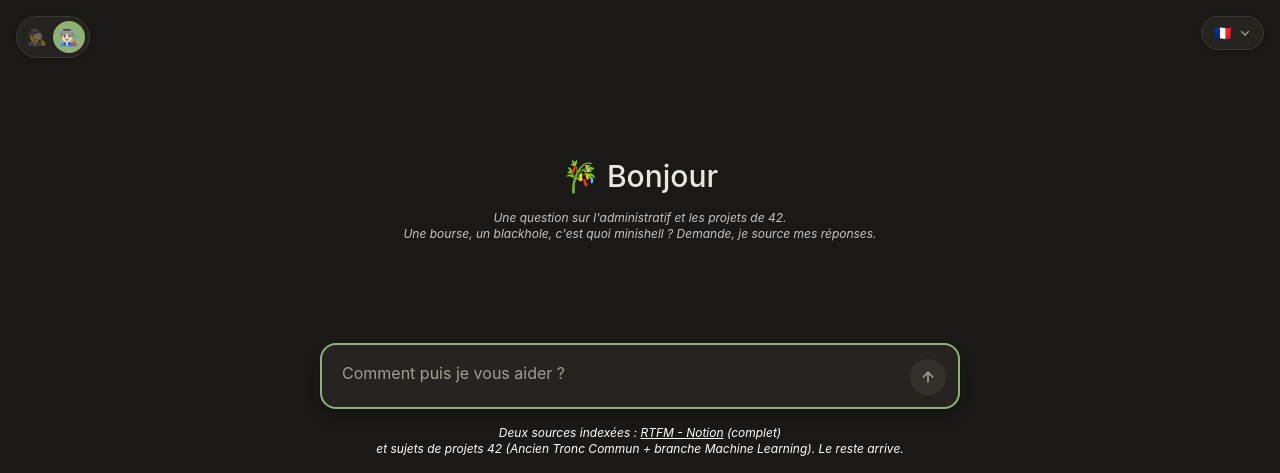
the two pages together › keep separate drafts and separate exchanges
The image size is (1280, 473).
(page scrolled)
Type "brouillon chat" into the text box.
click(640, 373); type("brouillon chat")  # box left=322, top=345, right=958, bottom=401
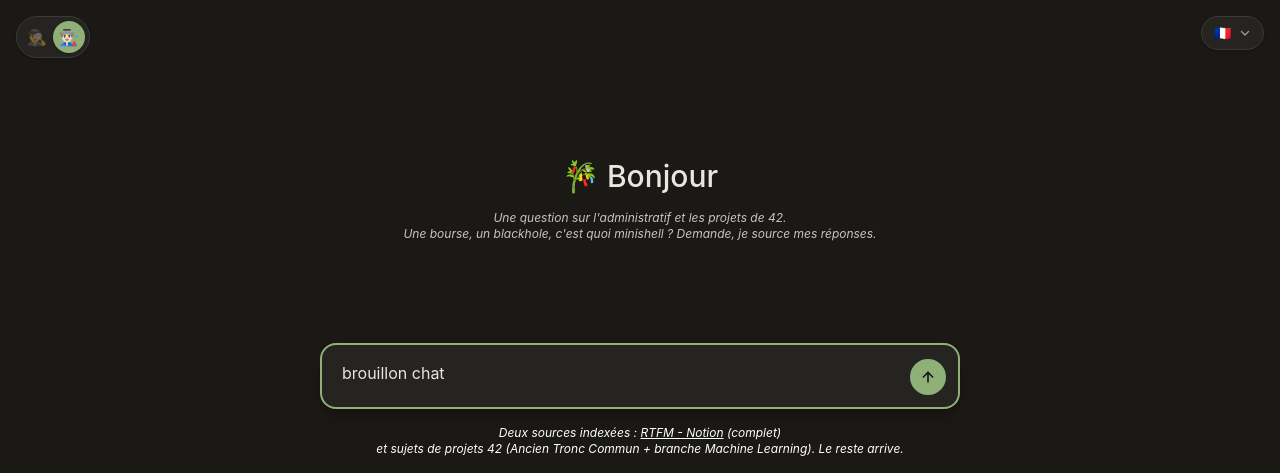
Click the button named "Basculer vers l'archiviste".
click(53, 37)  # box left=16, top=16, right=90, bottom=58
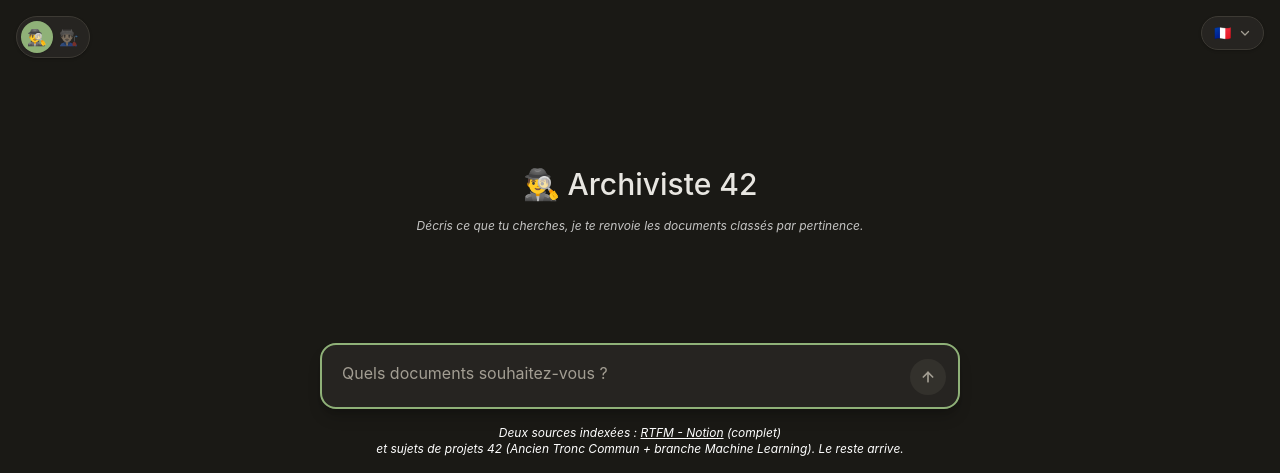
Expected: the text box is empty, left=322, top=345, right=958, bottom=401
# …and the chat draft survived the switch.
Click the button named "Basculer vers le chat".
click(53, 37)  # box left=16, top=16, right=90, bottom=58
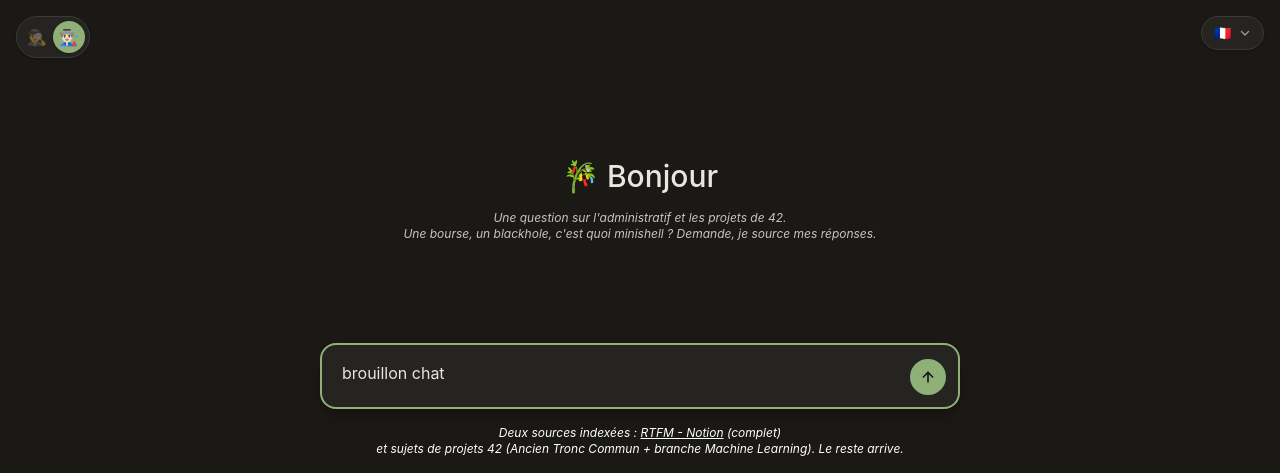
Expected: the text box holds "brouillon chat", left=322, top=345, right=958, bottom=401
